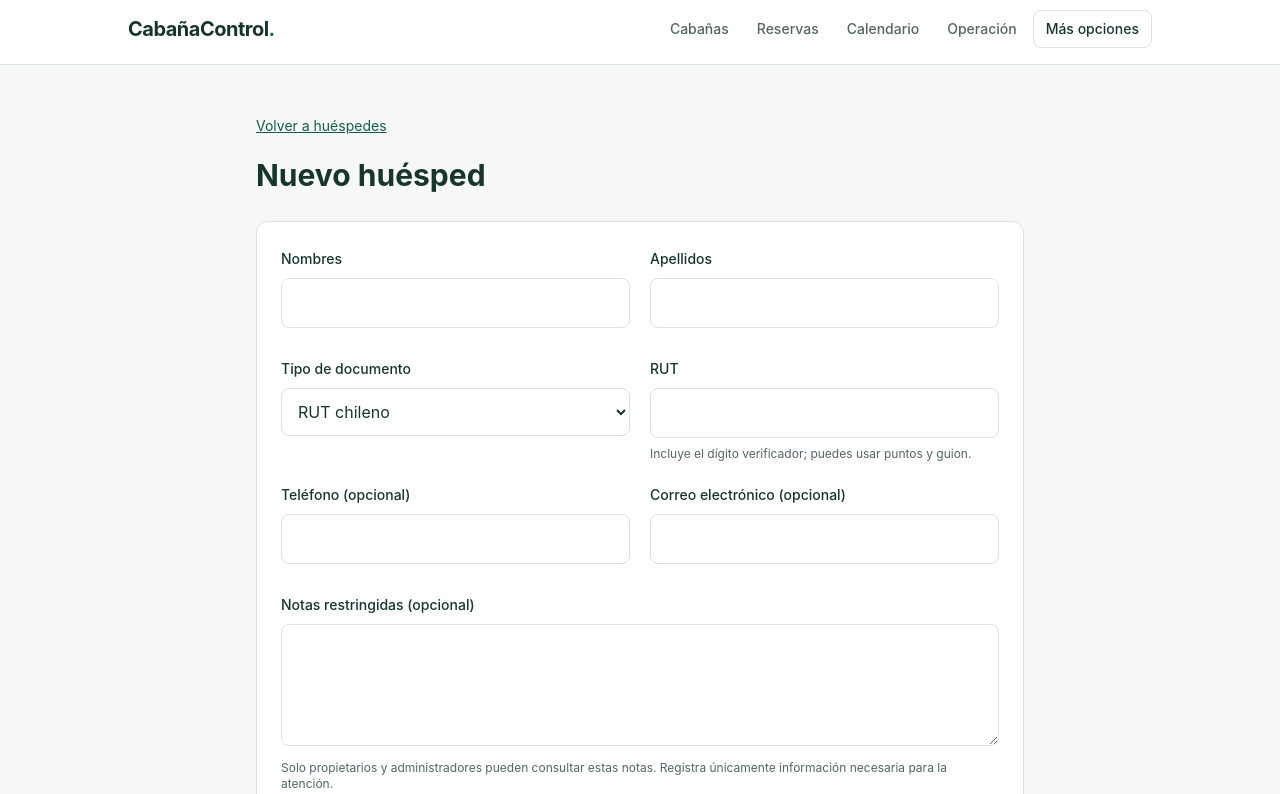
it: Huéspedes › valida RUT antes de crear
The image size is (1280, 794).
Type "Persona ficticia" into the field labelled "Nombres" at (456, 303), box [281,278,630,328]
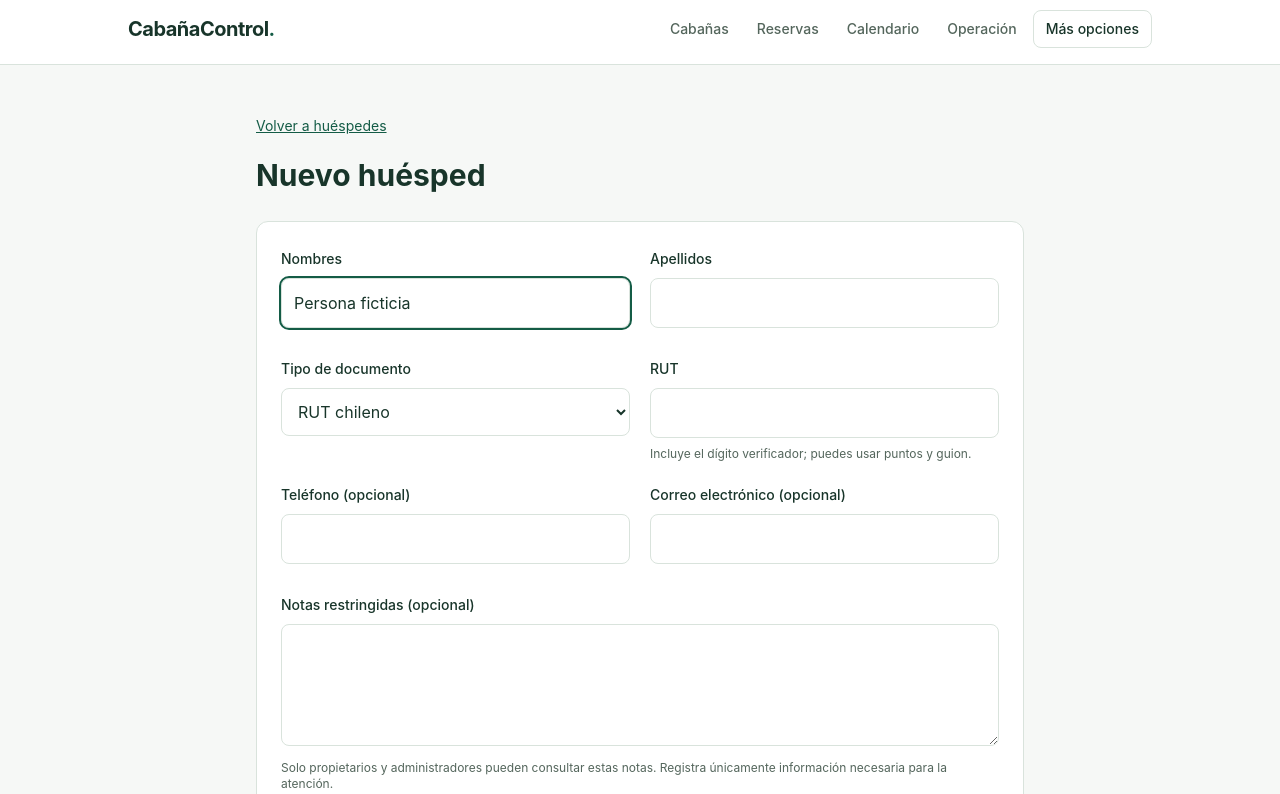
Type "De prueba" into the field labelled "Apellidos" at (824, 303), box [650,278,999,328]
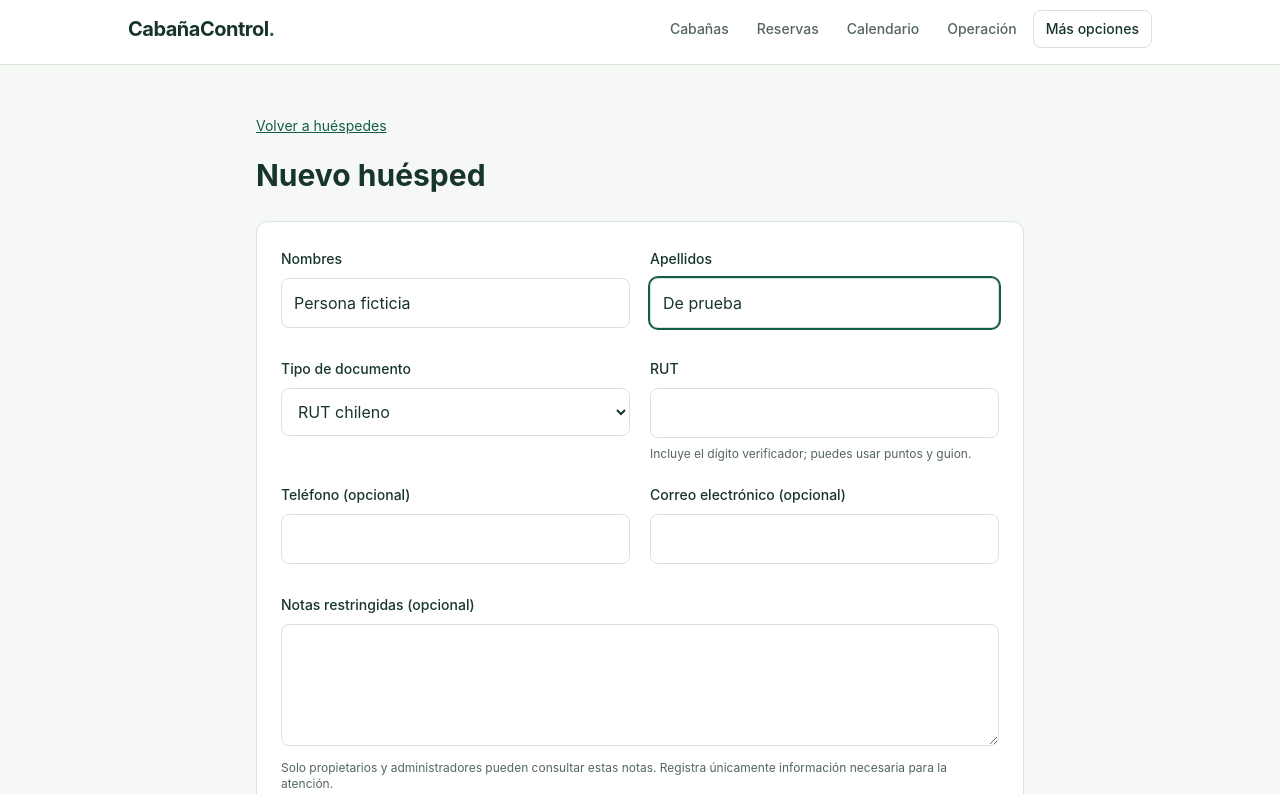
Type "12345678-9" into the field labelled "RUT" at (824, 413), box [650,388,999,438]
(page scrolled)
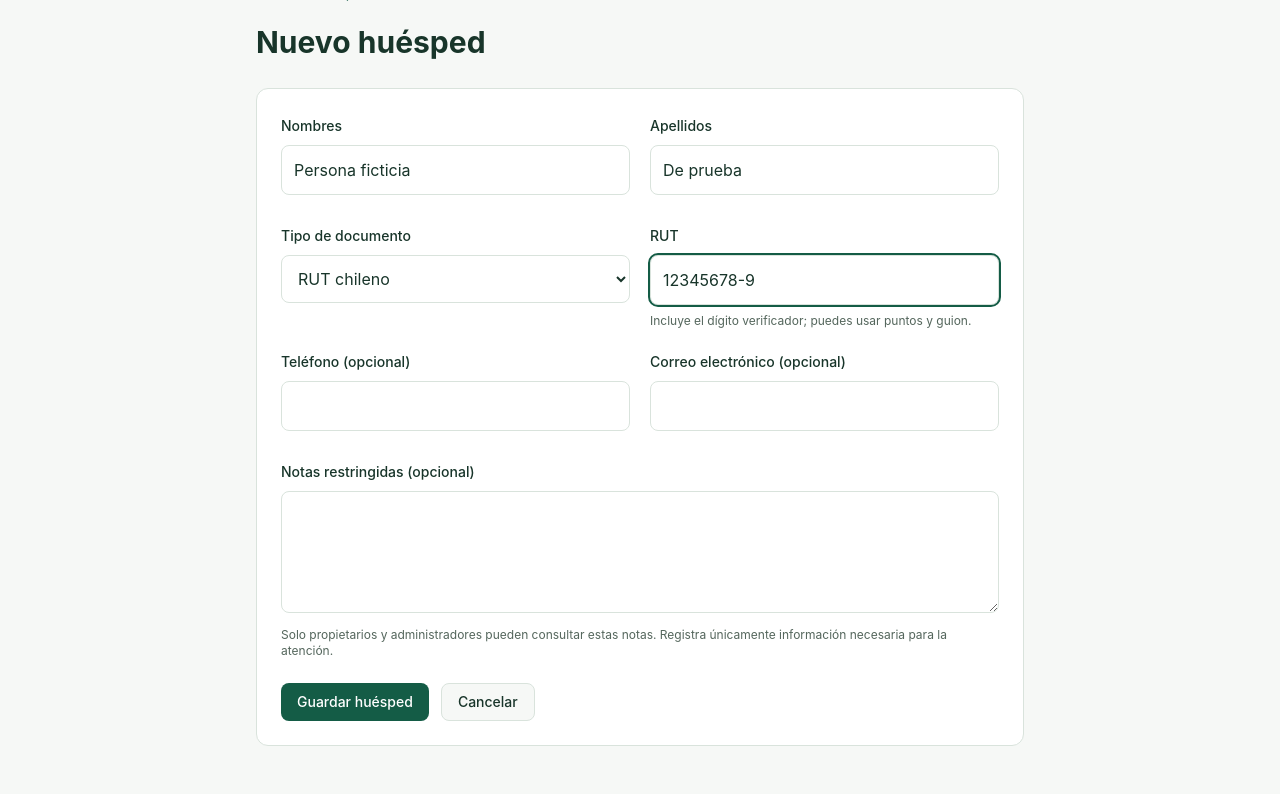
Click the button "Guardar huésped" at (355, 702), box [281,683,429,721]
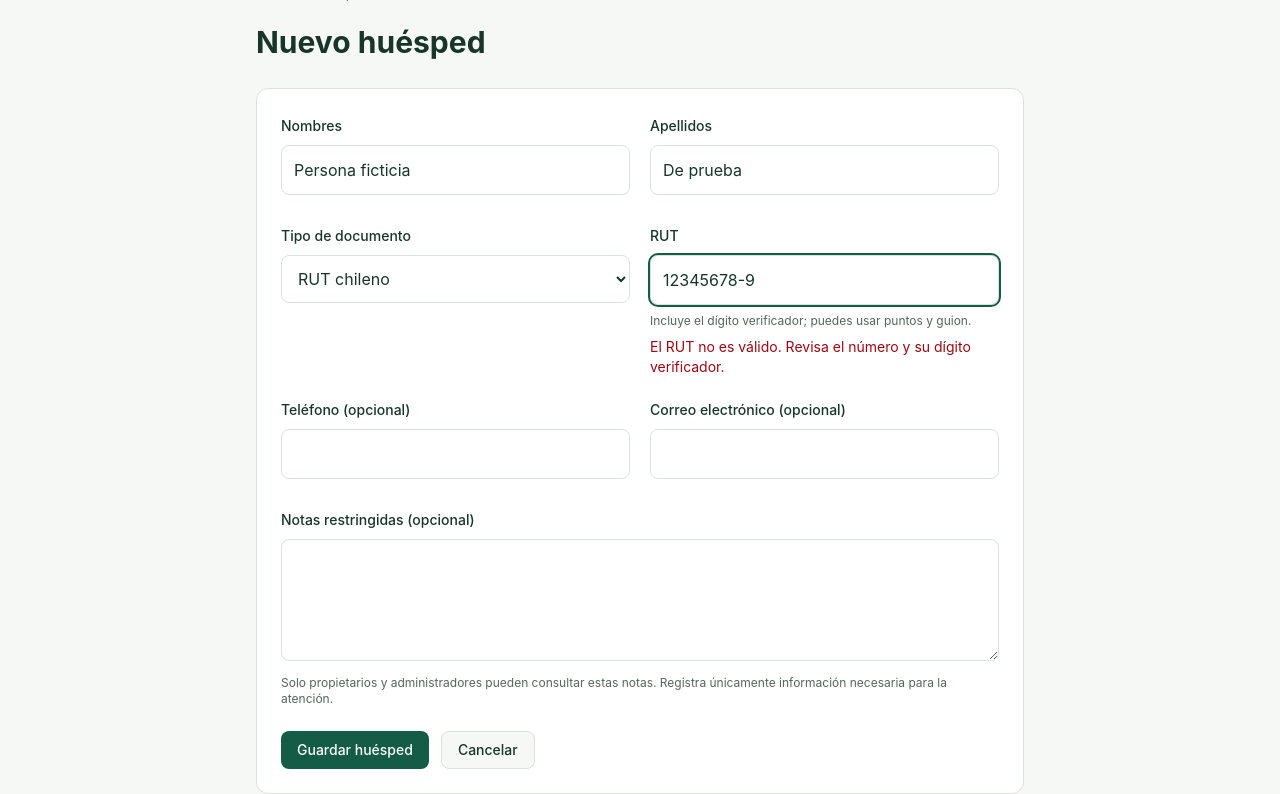
Expected: the message shows "El RUT no es válido", [650,338,971,375]
